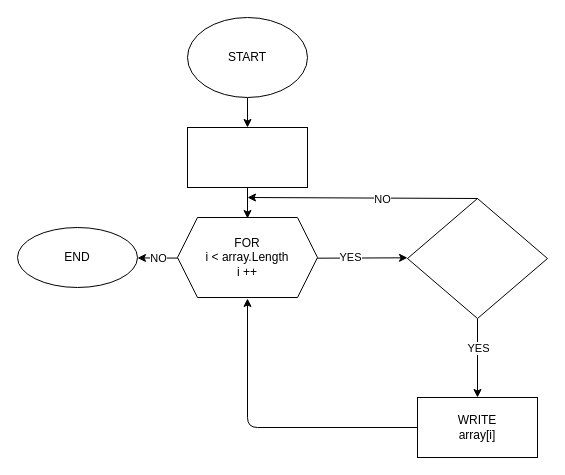
Image size: 565x475. Some labels were removed from this diagram. Here are the shapes that lost their labels. From the top down, the centre of each, then its label:
At (x=247, y=157): "array = {...} i = 0".
At (x=477, y=258): "IF array[i].Length <=3".
